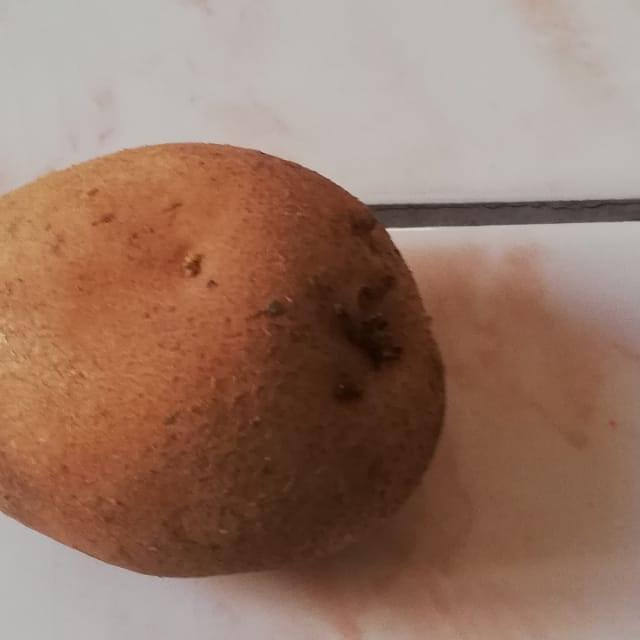potato: (0, 126, 465, 589)
